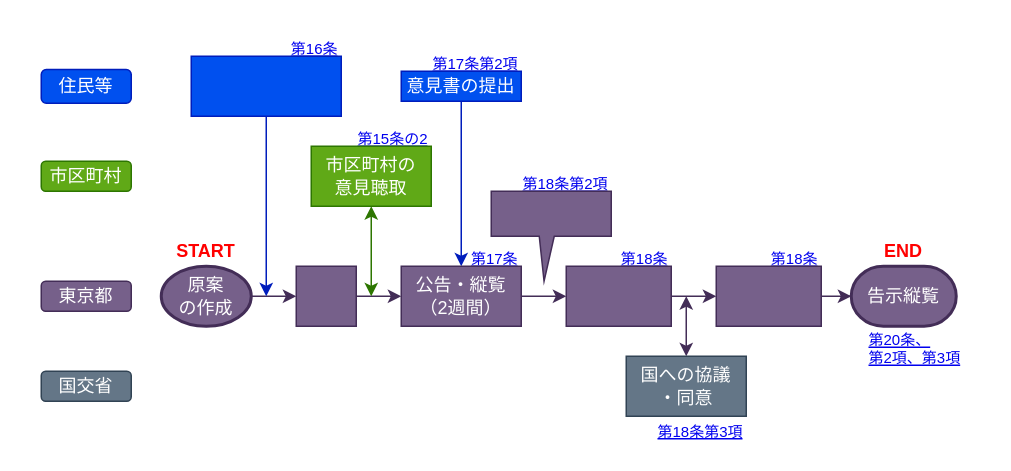
Image size: 1011x471. Some labels were removed from this diagram. Here are the shapes that lost their labels. From the top down, the box of each, then its label:
(190, 55, 341, 116): 公聴会等による 住民意見の反映
(490, 190, 611, 281): 意見書の要旨 を提出
(295, 265, 356, 326): 案の 作成
(565, 265, 671, 326): 東京都都市計画審議会
(715, 265, 821, 326): 都市計画の決定
